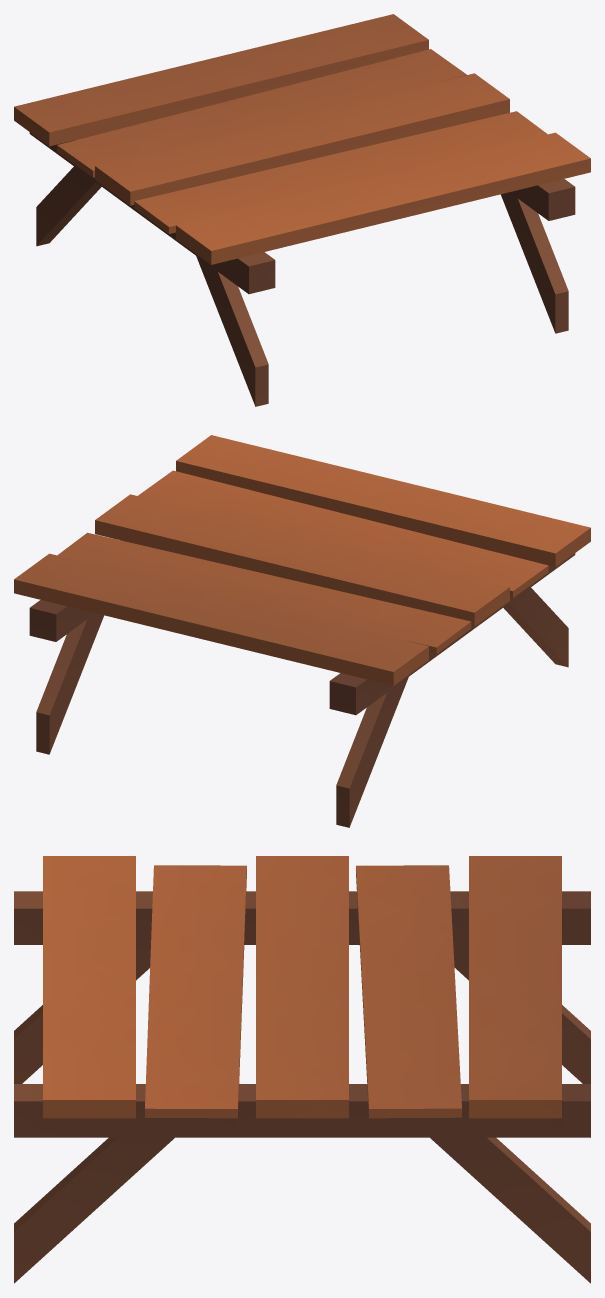
The model's file is bridge.glb.
3 renders of one model, top to bottom at view 1: azimuth 30°, elevation 25°; view 2: azimuth 150°, elevation 25°; view 3: azimuth 270°, elevation 25°, orthographic. The views are drawn at different scales.
Visible parts, largest first — view 1: bridge; view 2: bridge; view 3: bridge.
Part boxes in pixels (x1,y1,x2,y2): bridge: (14,14,590,406); bridge: (14,435,590,827); bridge: (14,856,590,1283).
Bounding box in the file's own units: 1 × 0.3925 × 1.
1 material, 1 textured.
